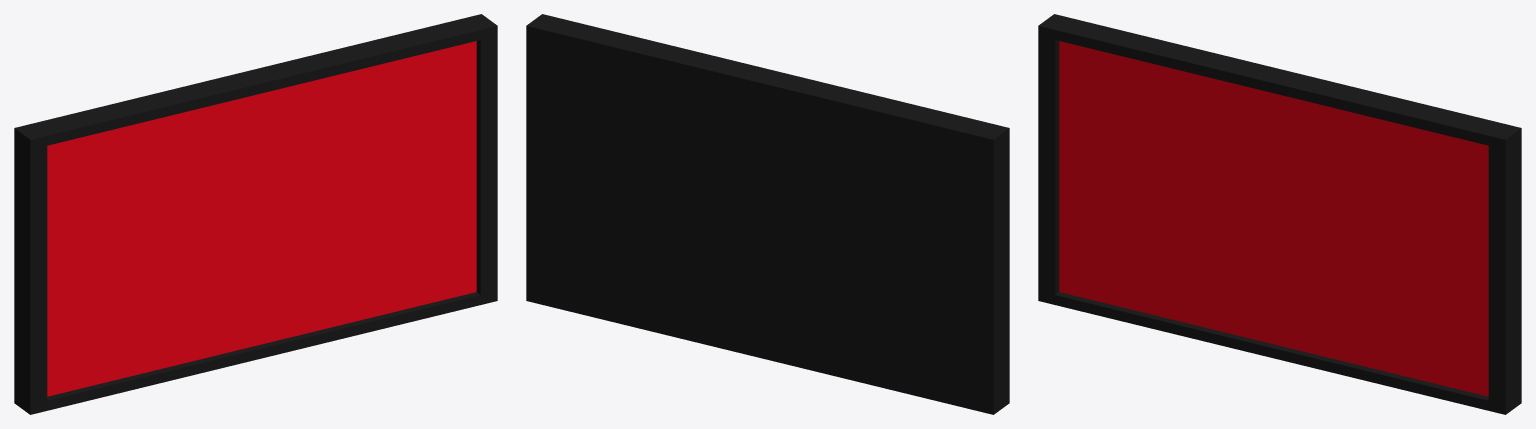
File: computer.glb
The picture shows the model from 3 angles, left to right: view 1: azimuth 30°, elevation 25°; view 2: azimuth 150°, elevation 25°; view 3: azimuth 330°, elevation 25°; orthographic projection.
Visible parts, largest first — view 1: scene.001; view 2: scene.001; view 3: scene.001.
Boxes of the visible parts, x1=… form: scene.001: x1=14, y1=14, x2=497, y2=414; scene.001: x1=526, y1=14, x2=1009, y2=414; scene.001: x1=1038, y1=14, x2=1521, y2=414.
Bounding box in the file's own units: 2.95 × 1.66 × 0.1764.
2 materials, 1 textured.
